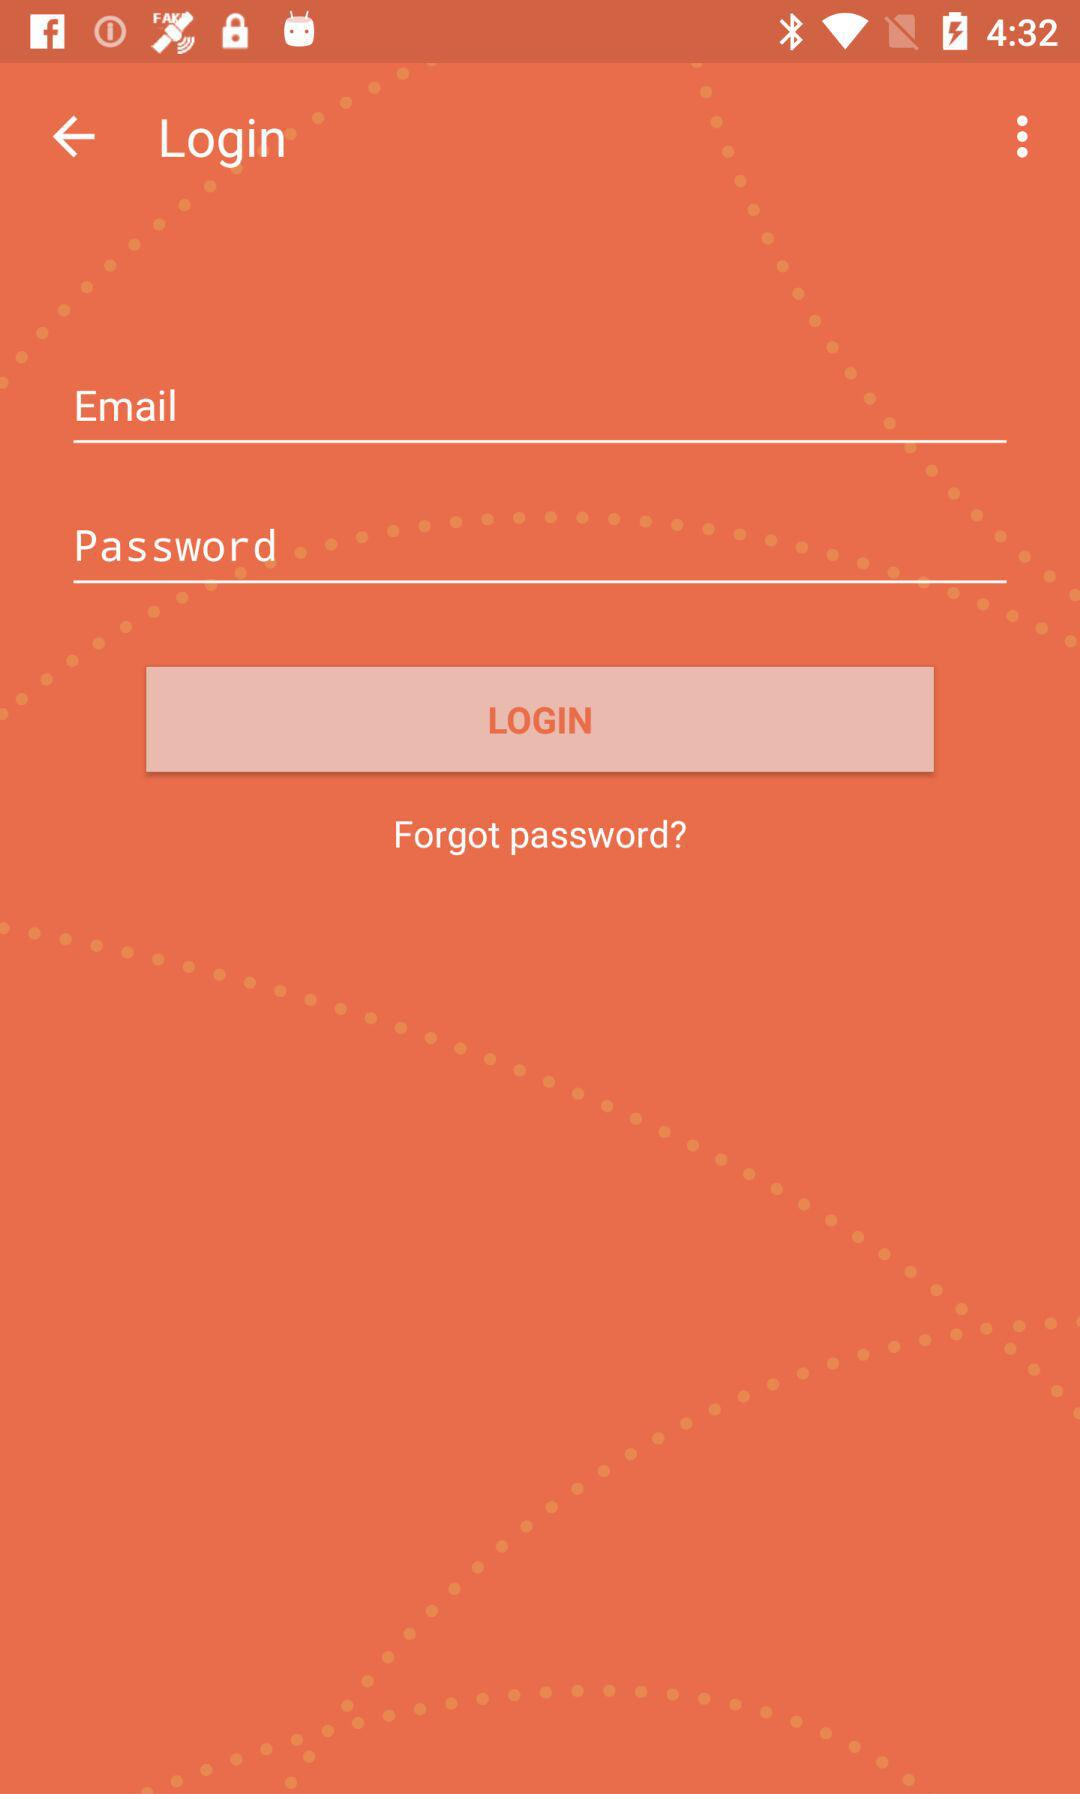EditText: (73, 528, 1008, 586), (73, 388, 1008, 445)
Icon: (53, 115, 97, 159), (1013, 115, 1029, 161)
Text: (395, 820, 687, 857), (76, 528, 275, 564), (161, 118, 284, 170), (77, 388, 176, 423)
TextButton: (147, 668, 935, 773)
UpperTaskBar: (1, 1, 1080, 64)
